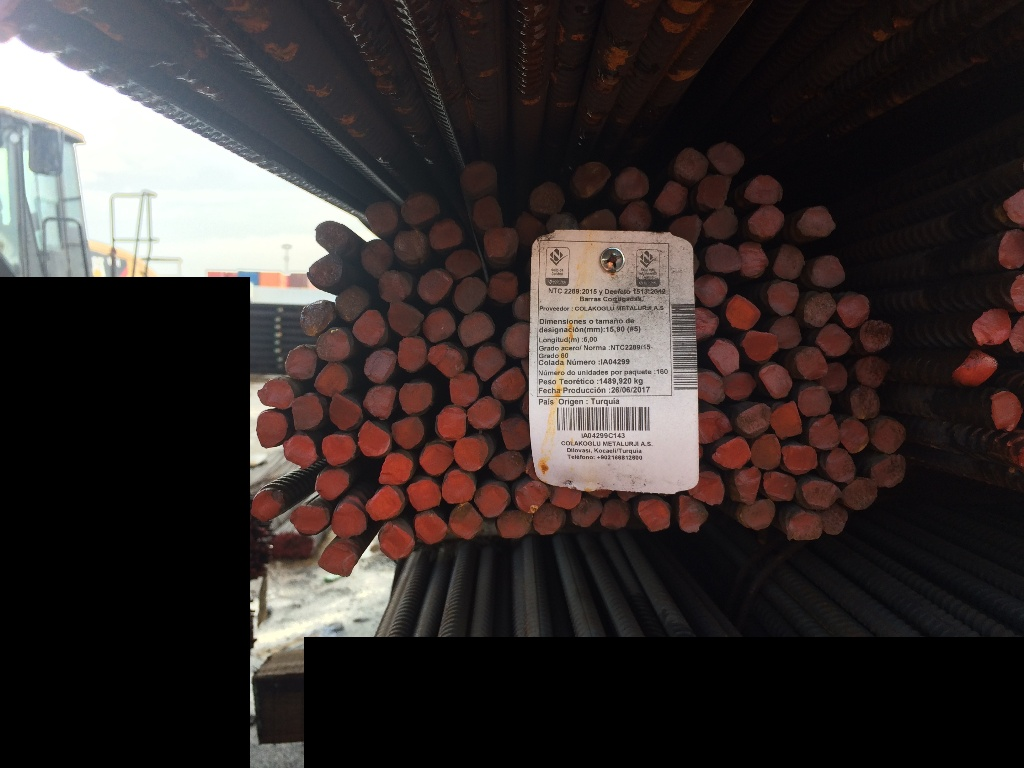dipstick: (953, 350, 998, 386), (972, 307, 1012, 346), (378, 523, 414, 562), (365, 484, 402, 521), (454, 275, 489, 314), (387, 302, 424, 338), (351, 309, 387, 346), (331, 504, 368, 540), (574, 162, 612, 197), (427, 343, 465, 378), (473, 343, 507, 382), (318, 544, 357, 578), (990, 391, 1022, 432), (696, 174, 732, 210), (334, 284, 370, 320), (726, 294, 761, 331), (490, 365, 527, 400), (654, 180, 691, 215), (441, 470, 476, 507), (421, 306, 456, 343), (769, 399, 802, 438), (706, 142, 745, 175), (307, 255, 346, 288), (329, 392, 362, 431), (450, 501, 481, 542), (872, 419, 907, 455), (417, 269, 453, 304), (300, 299, 335, 335), (289, 504, 331, 534), (748, 206, 785, 240), (703, 205, 740, 239), (458, 312, 495, 346), (815, 324, 853, 357), (677, 494, 709, 533), (361, 240, 392, 280), (292, 392, 323, 432), (871, 453, 906, 488), (810, 255, 845, 290), (393, 228, 428, 263), (688, 472, 724, 506), (452, 437, 488, 471), (474, 484, 510, 518), (363, 383, 396, 420), (258, 377, 295, 410), (358, 419, 390, 457), (256, 411, 288, 449), (400, 194, 439, 225), (516, 479, 551, 513), (615, 165, 650, 199), (413, 511, 448, 545), (420, 442, 455, 476), (250, 489, 285, 523), (804, 291, 837, 327), (759, 363, 792, 399), (708, 340, 741, 376), (781, 443, 818, 475), (713, 437, 750, 469), (460, 162, 497, 194), (797, 207, 835, 238), (741, 331, 779, 362), (674, 147, 708, 181), (314, 362, 348, 396), (842, 478, 877, 511), (397, 382, 433, 414), (773, 244, 804, 281), (751, 433, 782, 470), (738, 240, 769, 277), (487, 450, 525, 480), (742, 498, 776, 531), (467, 395, 500, 429), (392, 415, 425, 449), (378, 269, 412, 302), (363, 350, 397, 383), (284, 434, 318, 467), (767, 280, 799, 315), (436, 405, 468, 440), (316, 329, 351, 361), (284, 345, 316, 380), (855, 354, 891, 385), (735, 404, 771, 435), (703, 243, 740, 273), (745, 175, 783, 204), (638, 500, 671, 533), (322, 434, 355, 467), (837, 294, 869, 328), (695, 274, 727, 308), (699, 410, 731, 444), (484, 227, 518, 259), (366, 203, 400, 235), (316, 469, 350, 501), (849, 385, 880, 420), (397, 336, 427, 372), (999, 228, 1024, 271), (803, 480, 841, 508), (734, 467, 762, 505), (795, 346, 827, 379), (798, 384, 831, 416), (770, 316, 802, 349), (809, 415, 840, 449), (763, 470, 797, 501), (379, 454, 413, 485), (826, 448, 856, 483), (839, 419, 869, 454), (529, 182, 564, 212), (407, 480, 442, 510), (446, 249, 482, 278), (502, 321, 530, 358), (533, 504, 566, 535), (619, 199, 653, 229), (450, 372, 480, 406), (315, 220, 350, 249), (860, 320, 892, 351), (571, 495, 602, 527), (487, 270, 518, 302), (429, 220, 463, 249), (722, 373, 756, 401), (498, 509, 532, 537), (472, 198, 503, 228), (669, 215, 701, 244), (501, 417, 529, 450), (819, 504, 847, 536), (516, 215, 544, 247), (788, 513, 821, 540), (600, 499, 630, 528), (820, 360, 848, 390), (695, 307, 720, 340), (699, 370, 724, 403), (579, 209, 616, 231), (549, 485, 582, 509), (1003, 187, 1024, 223), (1008, 314, 1024, 352), (1009, 274, 1024, 310), (545, 213, 578, 228), (514, 292, 531, 320)
